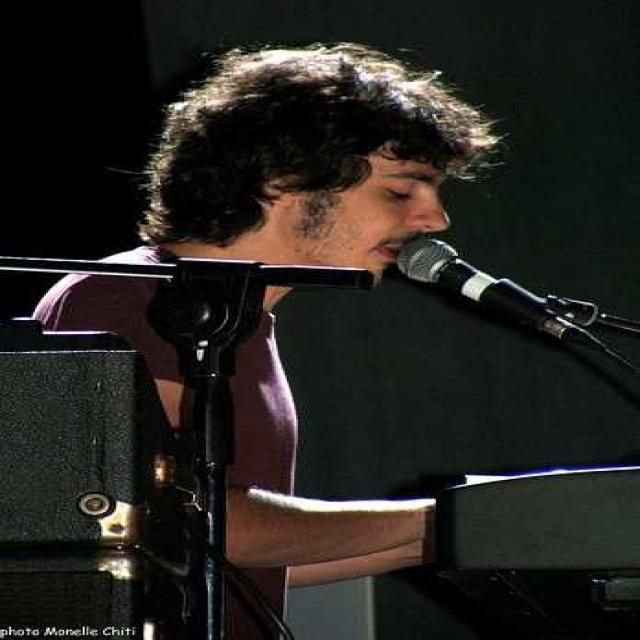microphone: (394, 238, 579, 336)
